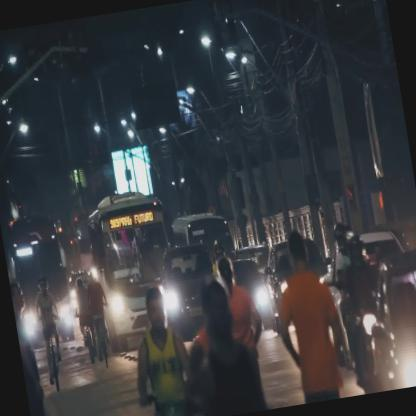bus: (83, 186, 184, 356)
car: (156, 240, 224, 342)
motorcycle: (31, 275, 68, 393), (83, 270, 113, 368), (70, 276, 100, 366)
